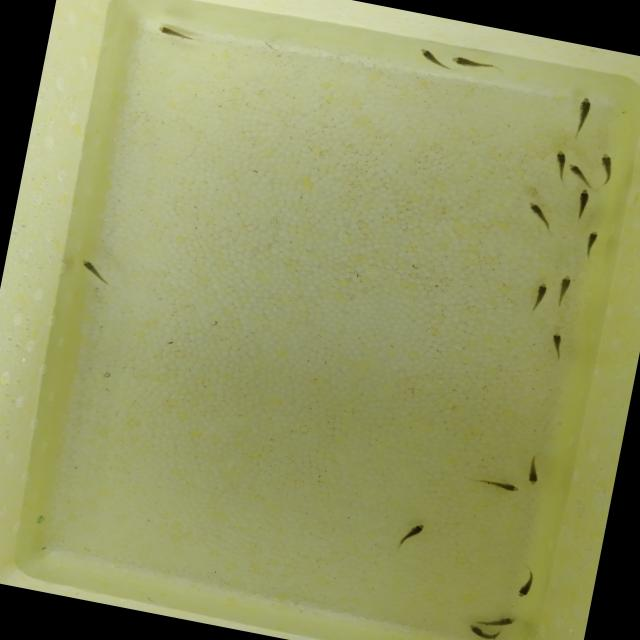fingerling: (74, 258, 114, 290), (395, 518, 430, 551), (522, 198, 558, 230), (570, 95, 600, 130), (152, 22, 196, 43), (482, 476, 523, 496), (590, 150, 618, 178), (513, 572, 541, 600), (523, 454, 544, 489), (416, 46, 446, 70), (462, 618, 494, 640), (448, 52, 483, 71), (555, 272, 575, 302), (532, 276, 548, 312), (488, 612, 518, 631), (581, 228, 601, 256), (546, 328, 563, 359), (550, 148, 570, 171), (573, 188, 591, 212), (564, 163, 588, 179)
